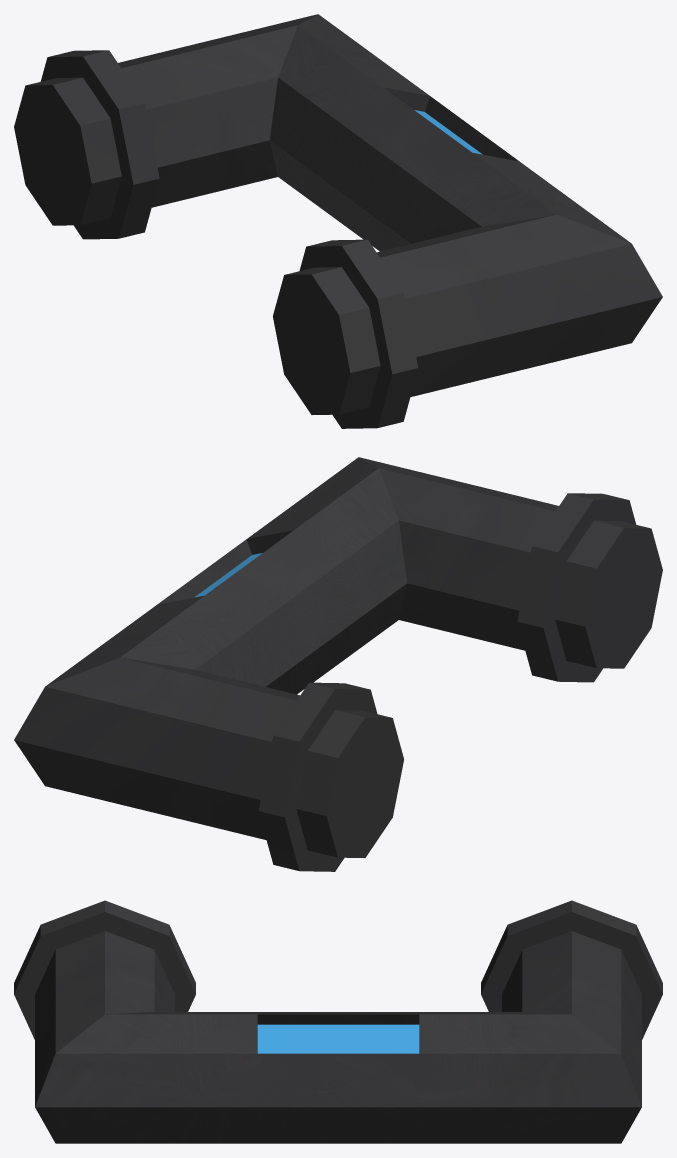
The model's file is sprinklerpipe.fbx.
3 renders of one model, top to bottom at view 1: azimuth 30°, elevation 25°; view 2: azimuth 150°, elevation 25°; view 3: azimuth 270°, elevation 25°, orthographic. The views are drawn at different scales.
Visible parts, largest first — view 1: Cylinder; view 2: Cylinder; view 3: Cylinder.
Boxes of the visible parts, left/top/right/bottom form: Cylinder: left=14, top=14, right=662, bottom=428; Cylinder: left=14, top=457, right=662, bottom=871; Cylinder: left=14, top=900, right=662, bottom=1143.
Size of the model in its own units: 139 by 78 by 278.
Materials: 2 (1 with a texture image).
